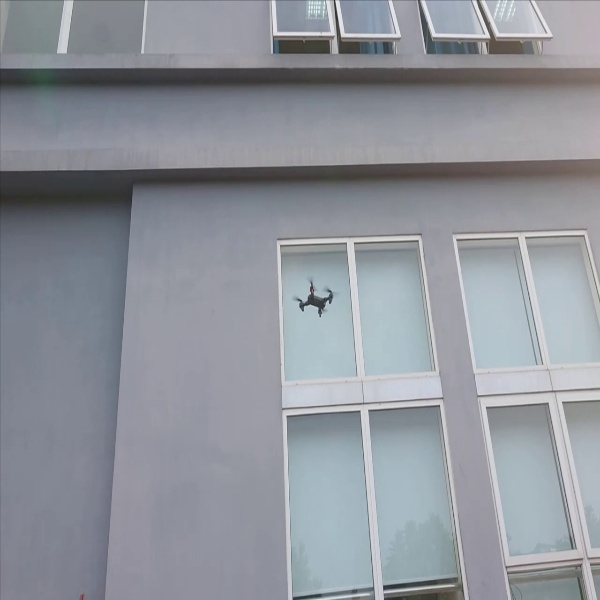drone: (283, 267, 351, 321)
